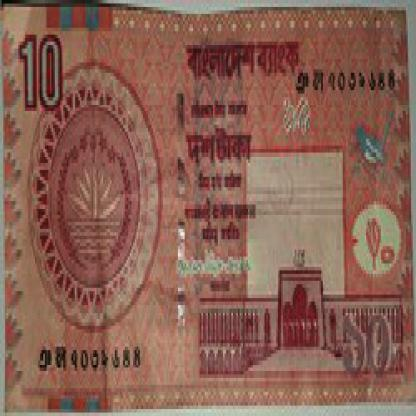Ten Taka: (12, 10, 66, 122), (328, 305, 396, 378)
